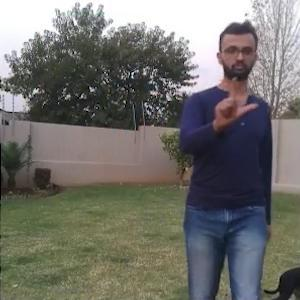land_hand: (215, 74, 260, 126)
